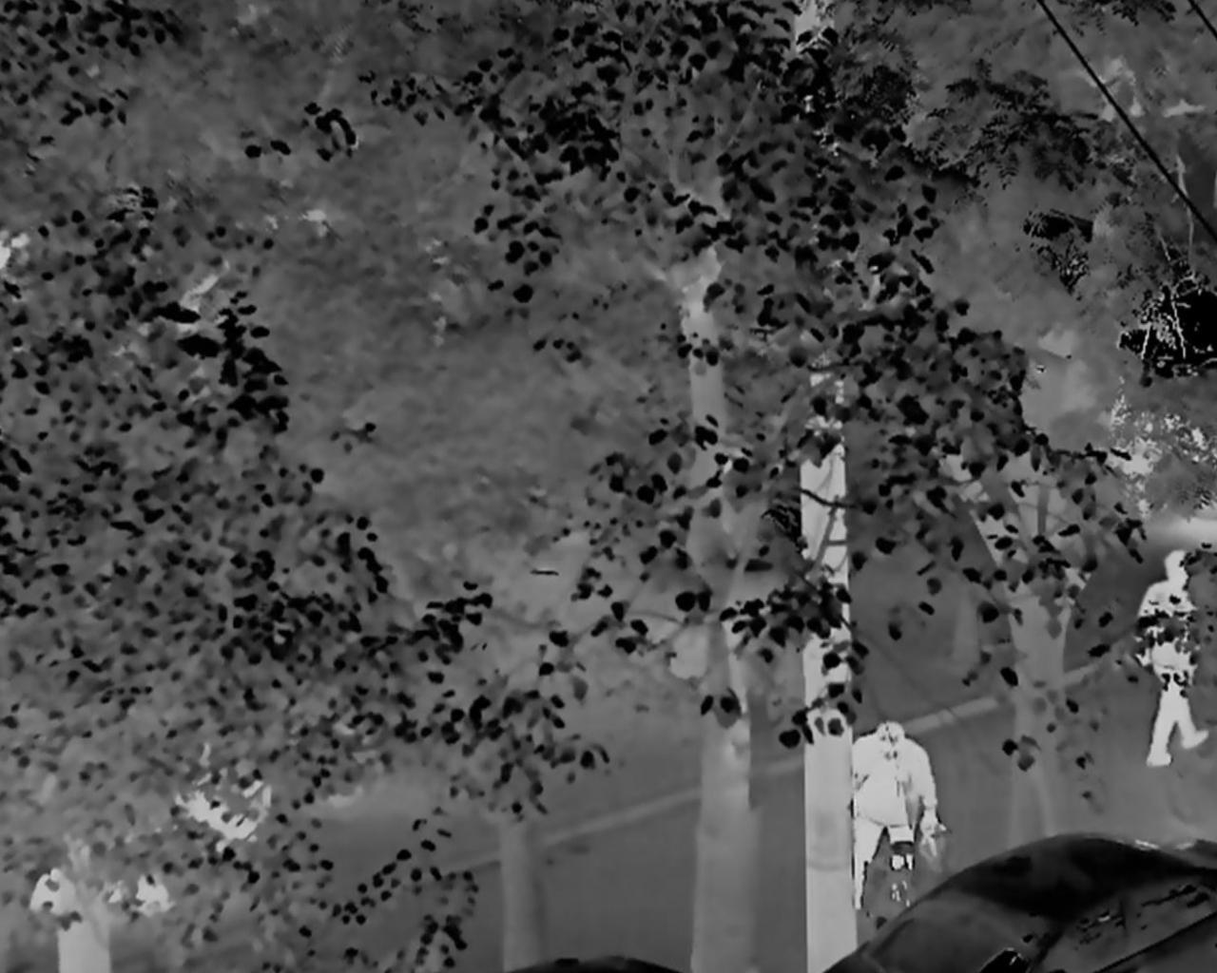person: (846, 714, 944, 911), (1137, 549, 1210, 787)
